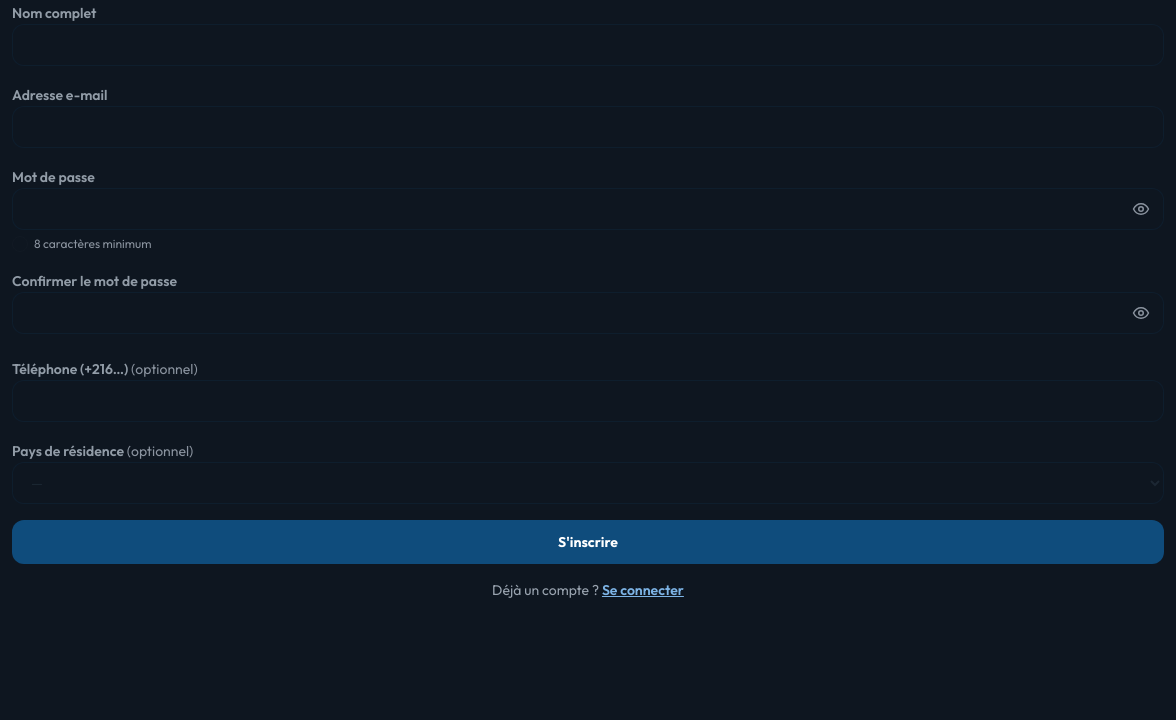
Scenario: <RegisterForm /> › affiche une erreur de correspondance dès que la confirmation diffère (avant soumission)
Type "motdepasse1" into the password field named "password" at (588, 209), box x1=12 y1=188 x2=1164 y2=230
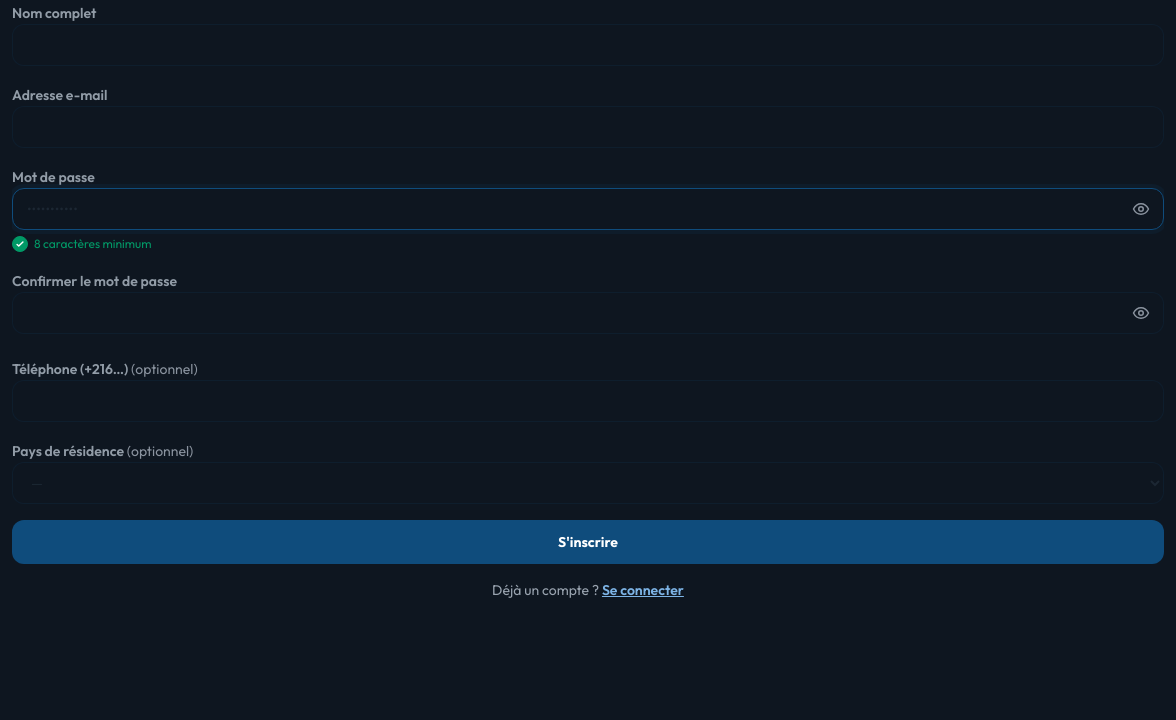
Type "autrechose1" into the password field named "confirmPassword" at (588, 313), box x1=12 y1=292 x2=1164 y2=334
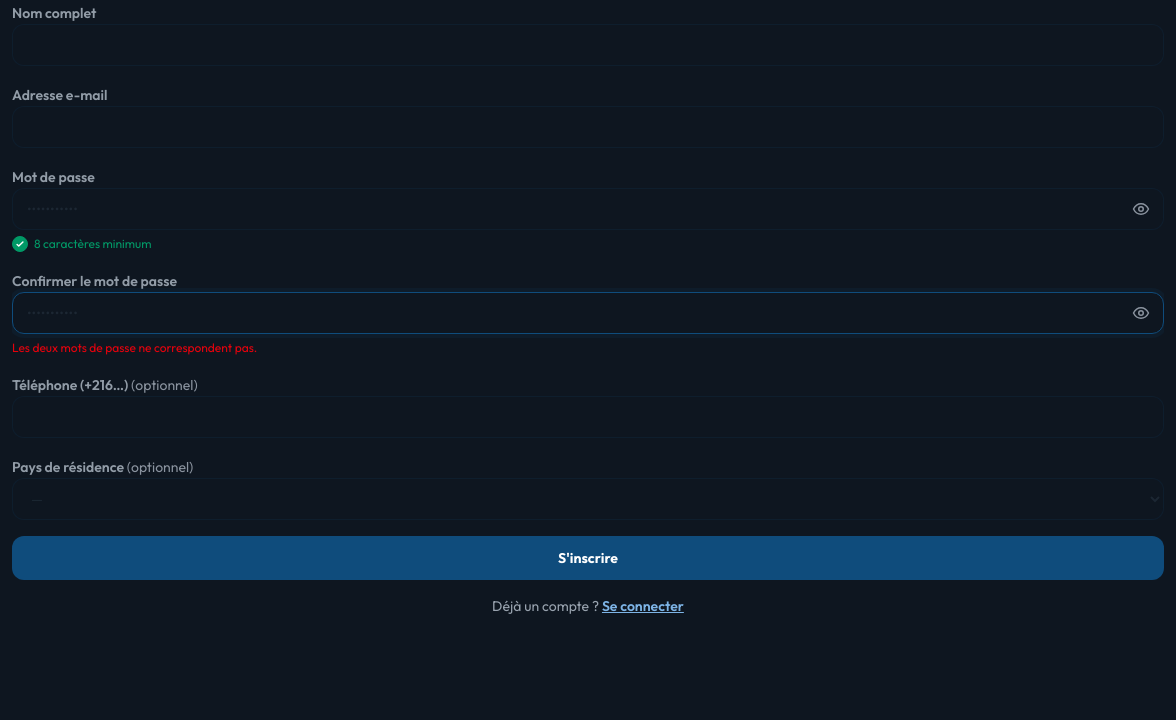
Expected: the text "Les deux mots de passe ne correspondent pas." is shown, x1=12 y1=340 x2=257 y2=355
